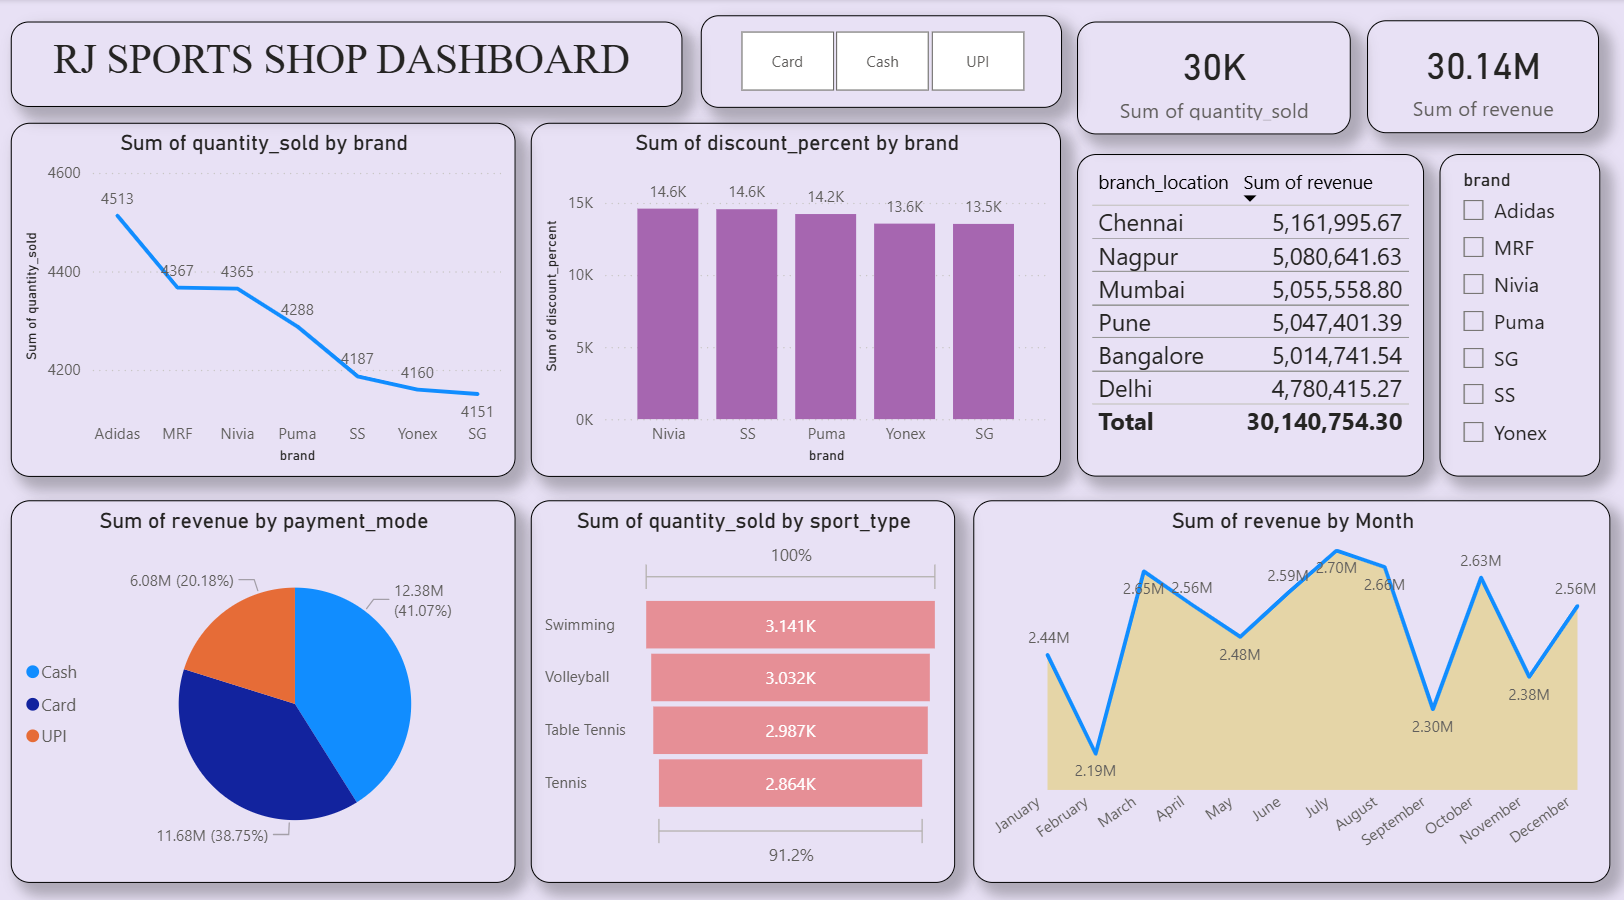

The dashboard page shown, as its layout file describes it:
{"tool":"powerbi","page":{"name":"Page 1","canvas":[1280,720],"ordinal":0},"visuals":[{"type":"textbox","box":[11,17.8,528.3,67.2],"z":0},{"type":"areaChart","fields":{"Category":["RJ_SPORTS.sales_date.Variation.Date Hierarchy.Month"],"Y":["Sum(RJ_SPORTS.revenue)"]},"box":[767.1,393.8,500.9,300.5],"z":1000},{"type":"pieChart","fields":{"Category":["RJ_SPORTS.payment_mode"],"Y":["Sum(RJ_SPORTS.revenue)"]},"box":[11,393.8,396.6,300.5],"z":2000},{"type":"card","fields":{"Values":["Sum(RJ_SPORTS.revenue)"]},"box":[1077.2,16.5,182.5,89.2],"z":3000},{"type":"slicer","fields":{"Values":["RJ_SPORTS.payment_mode"]},"box":[553,12.3,284,72.7],"z":4000},{"type":"lineChart","fields":{"Category":["RJ_SPORTS.brand"],"Y":["Sum(RJ_SPORTS.quantity_sold)"]},"box":[11,97.4,396.6,278.6],"z":4001},{"type":"funnel","fields":{"Category":["RJ_SPORTS.sport_type"],"Y":["Sum(RJ_SPORTS.quantity_sold)"]},"box":[419.9,393.8,333.4,300.5],"z":4002},{"type":"columnChart","fields":{"Y":["Sum(RJ_SPORTS.discount_percent)"],"Category":["RJ_SPORTS.brand"]},"box":[419.9,97.4,417.2,278.6],"z":4003},{"type":"slicer","fields":{"Values":["RJ_SPORTS.brand"]},"box":[1133.5,122.1,126.2,253.9],"z":4004},{"type":"tableEx","fields":{"Values":["RJ_SPORTS.branch_location","Sum(RJ_SPORTS.revenue)"]},"box":[849.4,122.1,273.1,253.9],"z":4005},{"type":"card","fields":{"Values":["Sum(RJ_SPORTS.quantity_sold)"]},"box":[849.4,17.8,215.4,89.2],"z":4006}]}

Visuals, with their boxes in screenshot pixels (x1, y1, x2, y2), scaled from the page's 1280x720 canvas onto the 1624x900 screenshot:
textbox: bbox=(14, 22, 684, 106)
areaChart - RJ_SPORTS.sales_date.Variation.Date Hierarchy.Month x Sum(RJ_SPORTS.revenue): bbox=(973, 492, 1609, 868)
pieChart - RJ_SPORTS.payment_mode x Sum(RJ_SPORTS.revenue): bbox=(14, 492, 517, 868)
card - Sum(RJ_SPORTS.revenue): bbox=(1367, 21, 1598, 132)
slicer - RJ_SPORTS.payment_mode: bbox=(702, 15, 1062, 106)
lineChart - RJ_SPORTS.brand x Sum(RJ_SPORTS.quantity_sold): bbox=(14, 122, 517, 470)
funnel - RJ_SPORTS.sport_type x Sum(RJ_SPORTS.quantity_sold): bbox=(533, 492, 956, 868)
columnChart - Sum(RJ_SPORTS.discount_percent) x RJ_SPORTS.brand: bbox=(533, 122, 1062, 470)
slicer - RJ_SPORTS.brand: bbox=(1438, 153, 1598, 470)
tableEx - RJ_SPORTS.branch_location x Sum(RJ_SPORTS.revenue): bbox=(1078, 153, 1424, 470)
card - Sum(RJ_SPORTS.quantity_sold): bbox=(1078, 22, 1351, 134)
